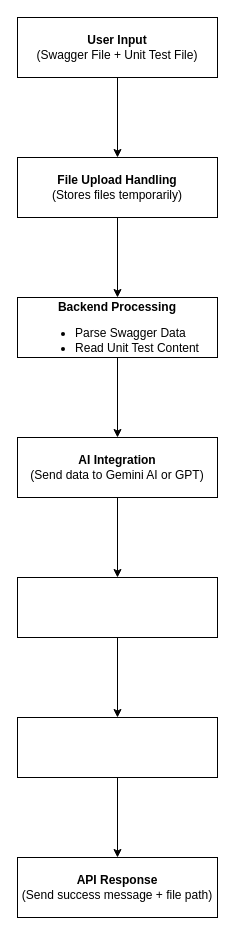
This 235x935 diagram has some shape labels left out. The centre of each missing label's shape, as x and y in pixels:
File Cleanup (Delete temporary uploads): point (117, 747)
Markdown Generation (Save output in /output directory): point (117, 607)
